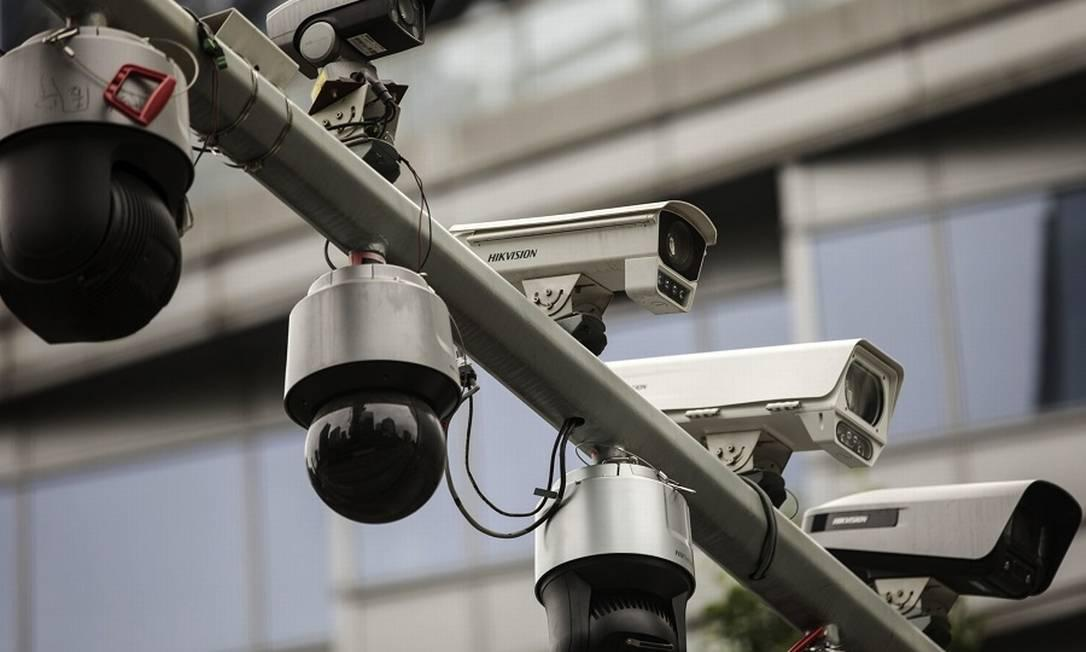camera: (462, 107, 1086, 652), (2, 5, 207, 353), (265, 218, 463, 550)
